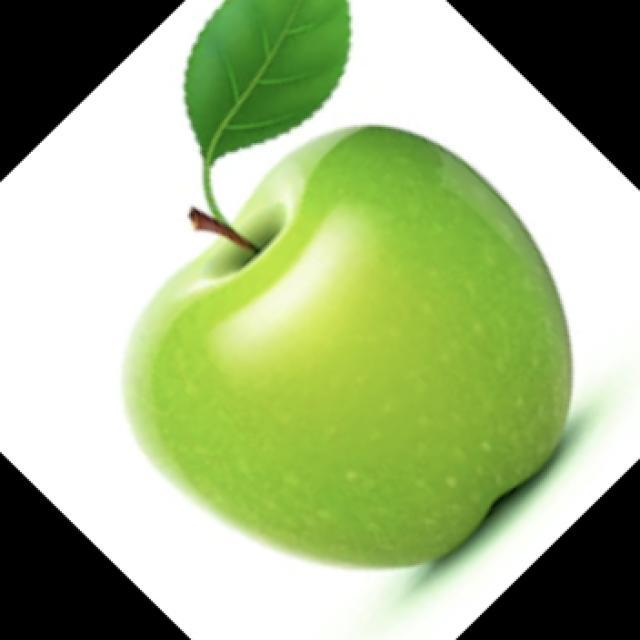Fresh Apple: (127, 123, 573, 560)
